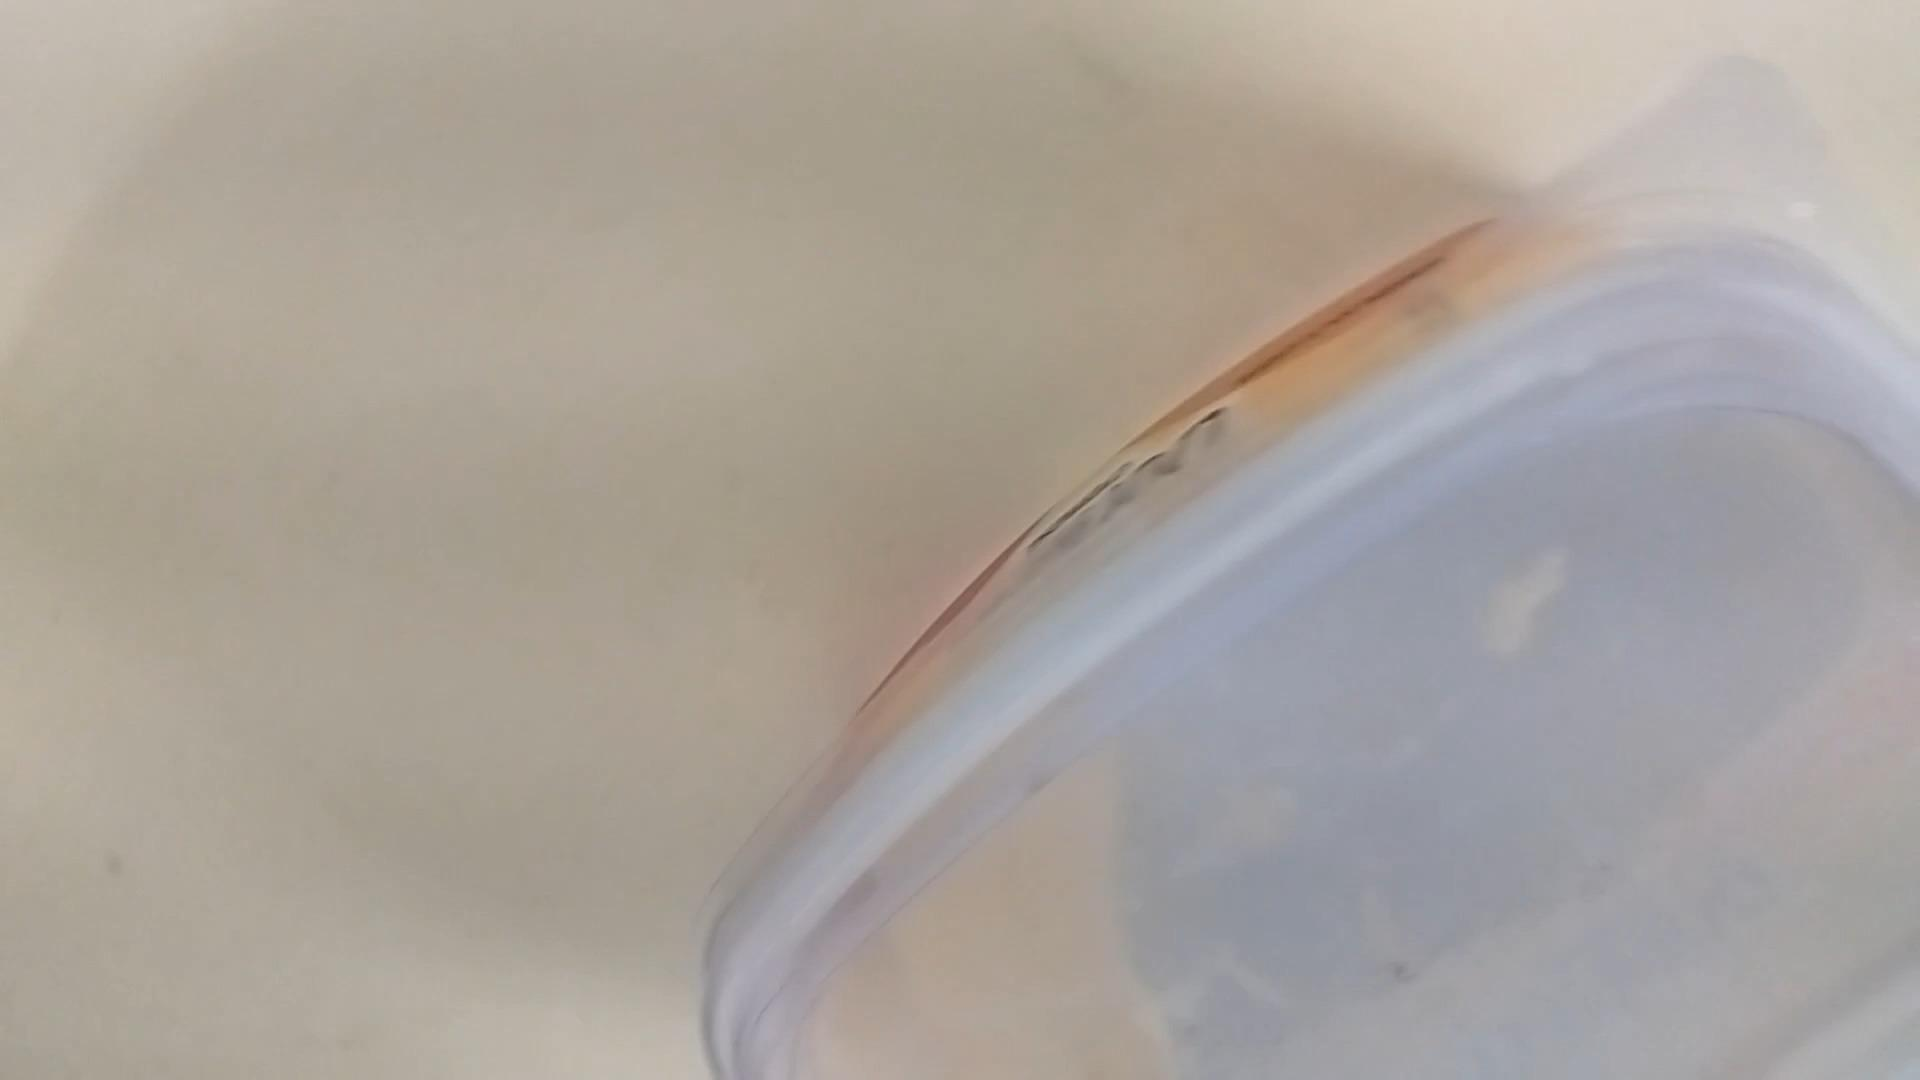butter: (709, 105, 1920, 1075)
